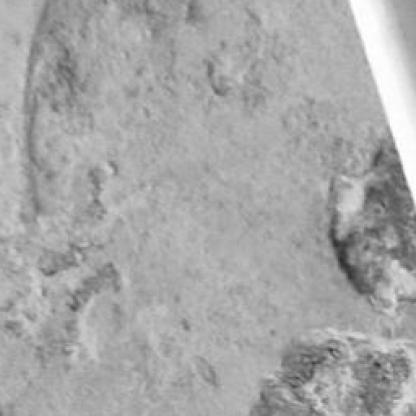PVC: (349, 2, 414, 206)
